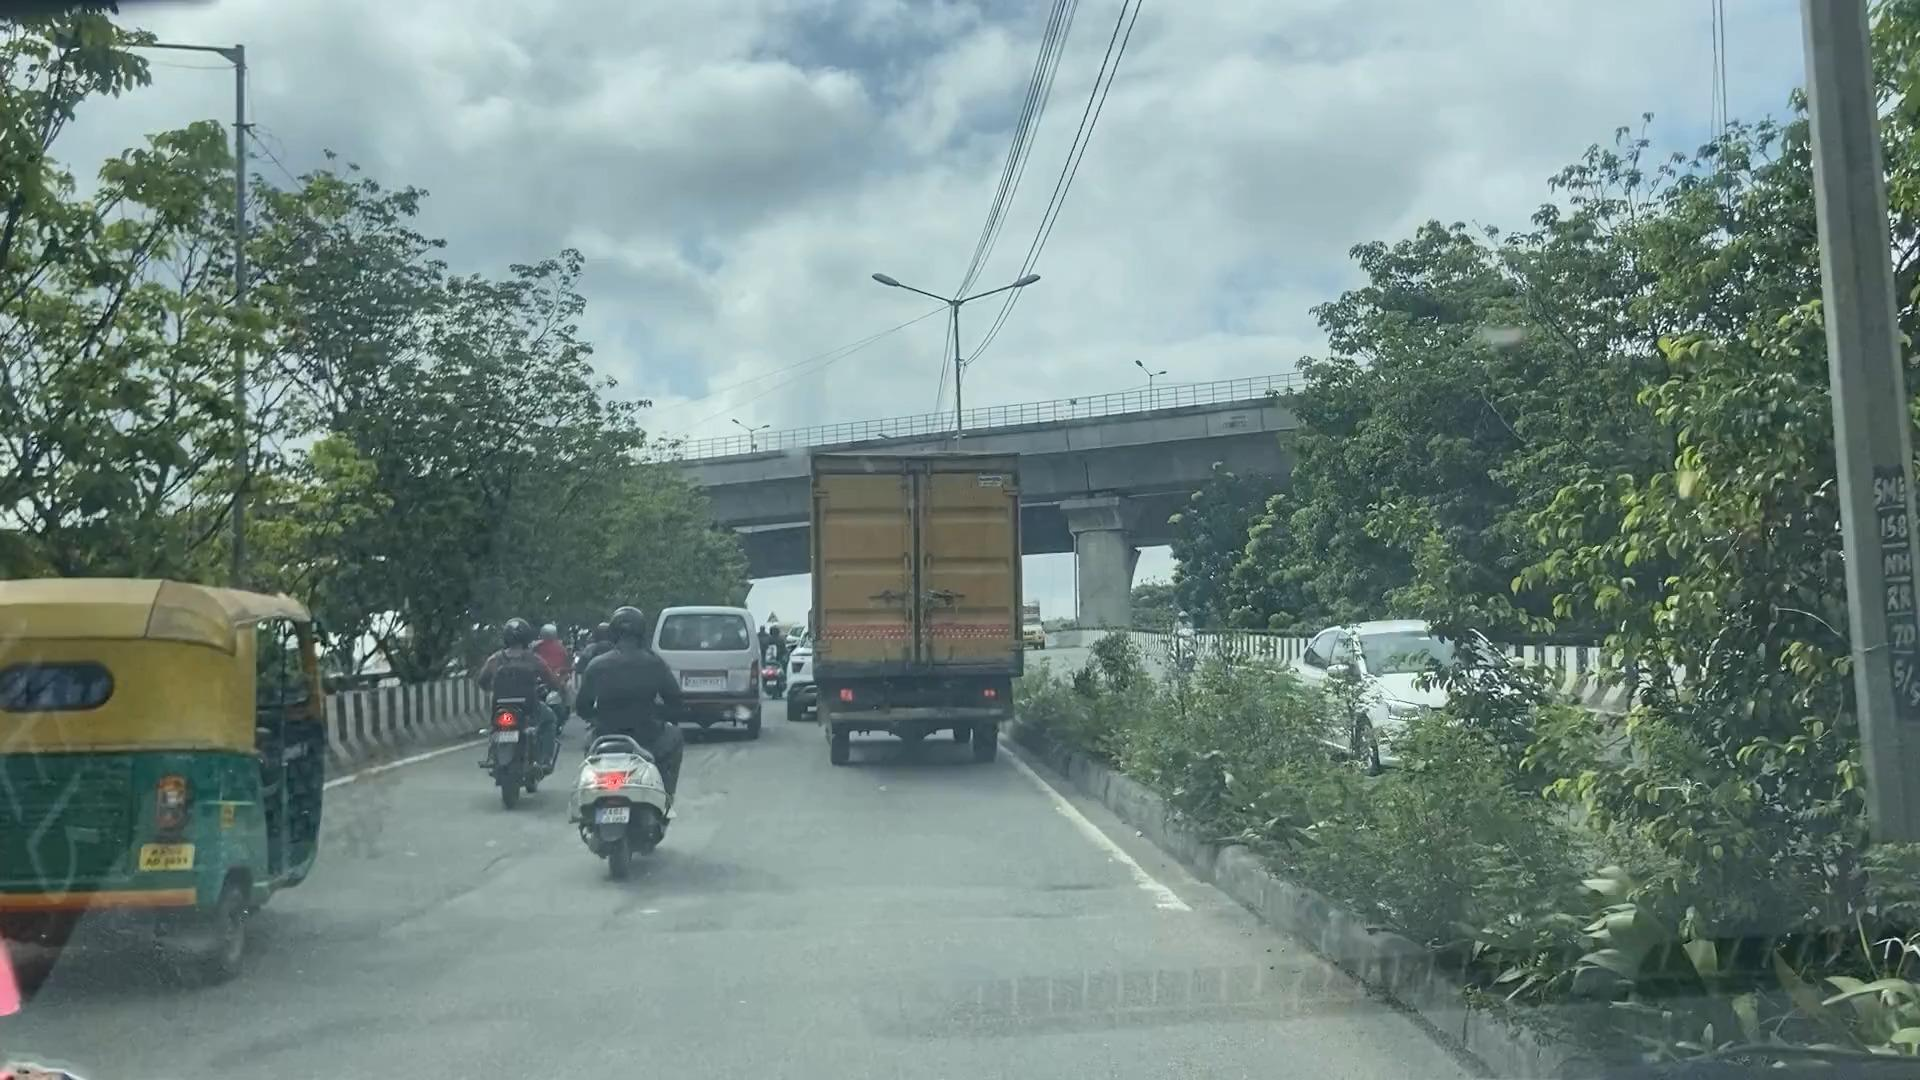HMV: (803, 443, 1029, 773)
LMV: (1, 600, 334, 956), (576, 613, 679, 873), (467, 611, 562, 791)
